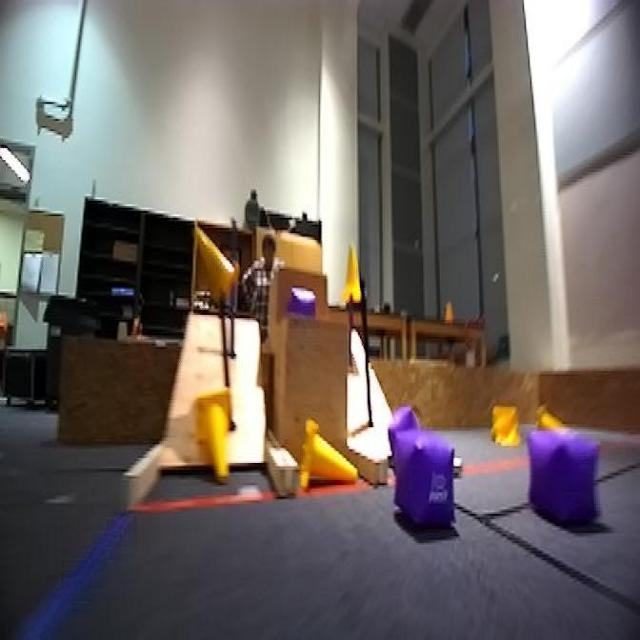frc_cone: (296, 416, 360, 500), (188, 388, 244, 483), (196, 225, 237, 298), (337, 247, 367, 306), (491, 403, 519, 446), (538, 407, 573, 436)
frc_cube: (526, 412, 606, 548), (393, 428, 457, 542), (285, 283, 323, 325)
